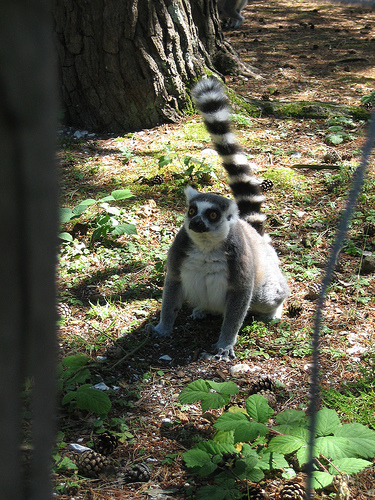cat: (147, 68, 290, 365)
